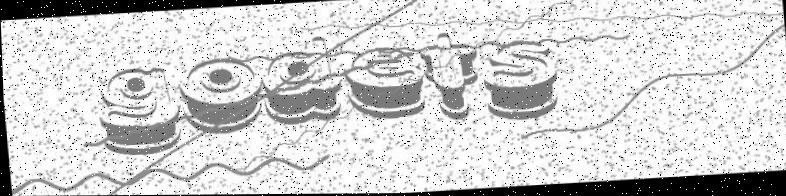d: (253, 32, 343, 128)
e: (340, 42, 426, 123)
g: (93, 60, 184, 156)
o: (176, 50, 265, 137)
s: (480, 36, 561, 126)
t: (414, 28, 485, 123)
